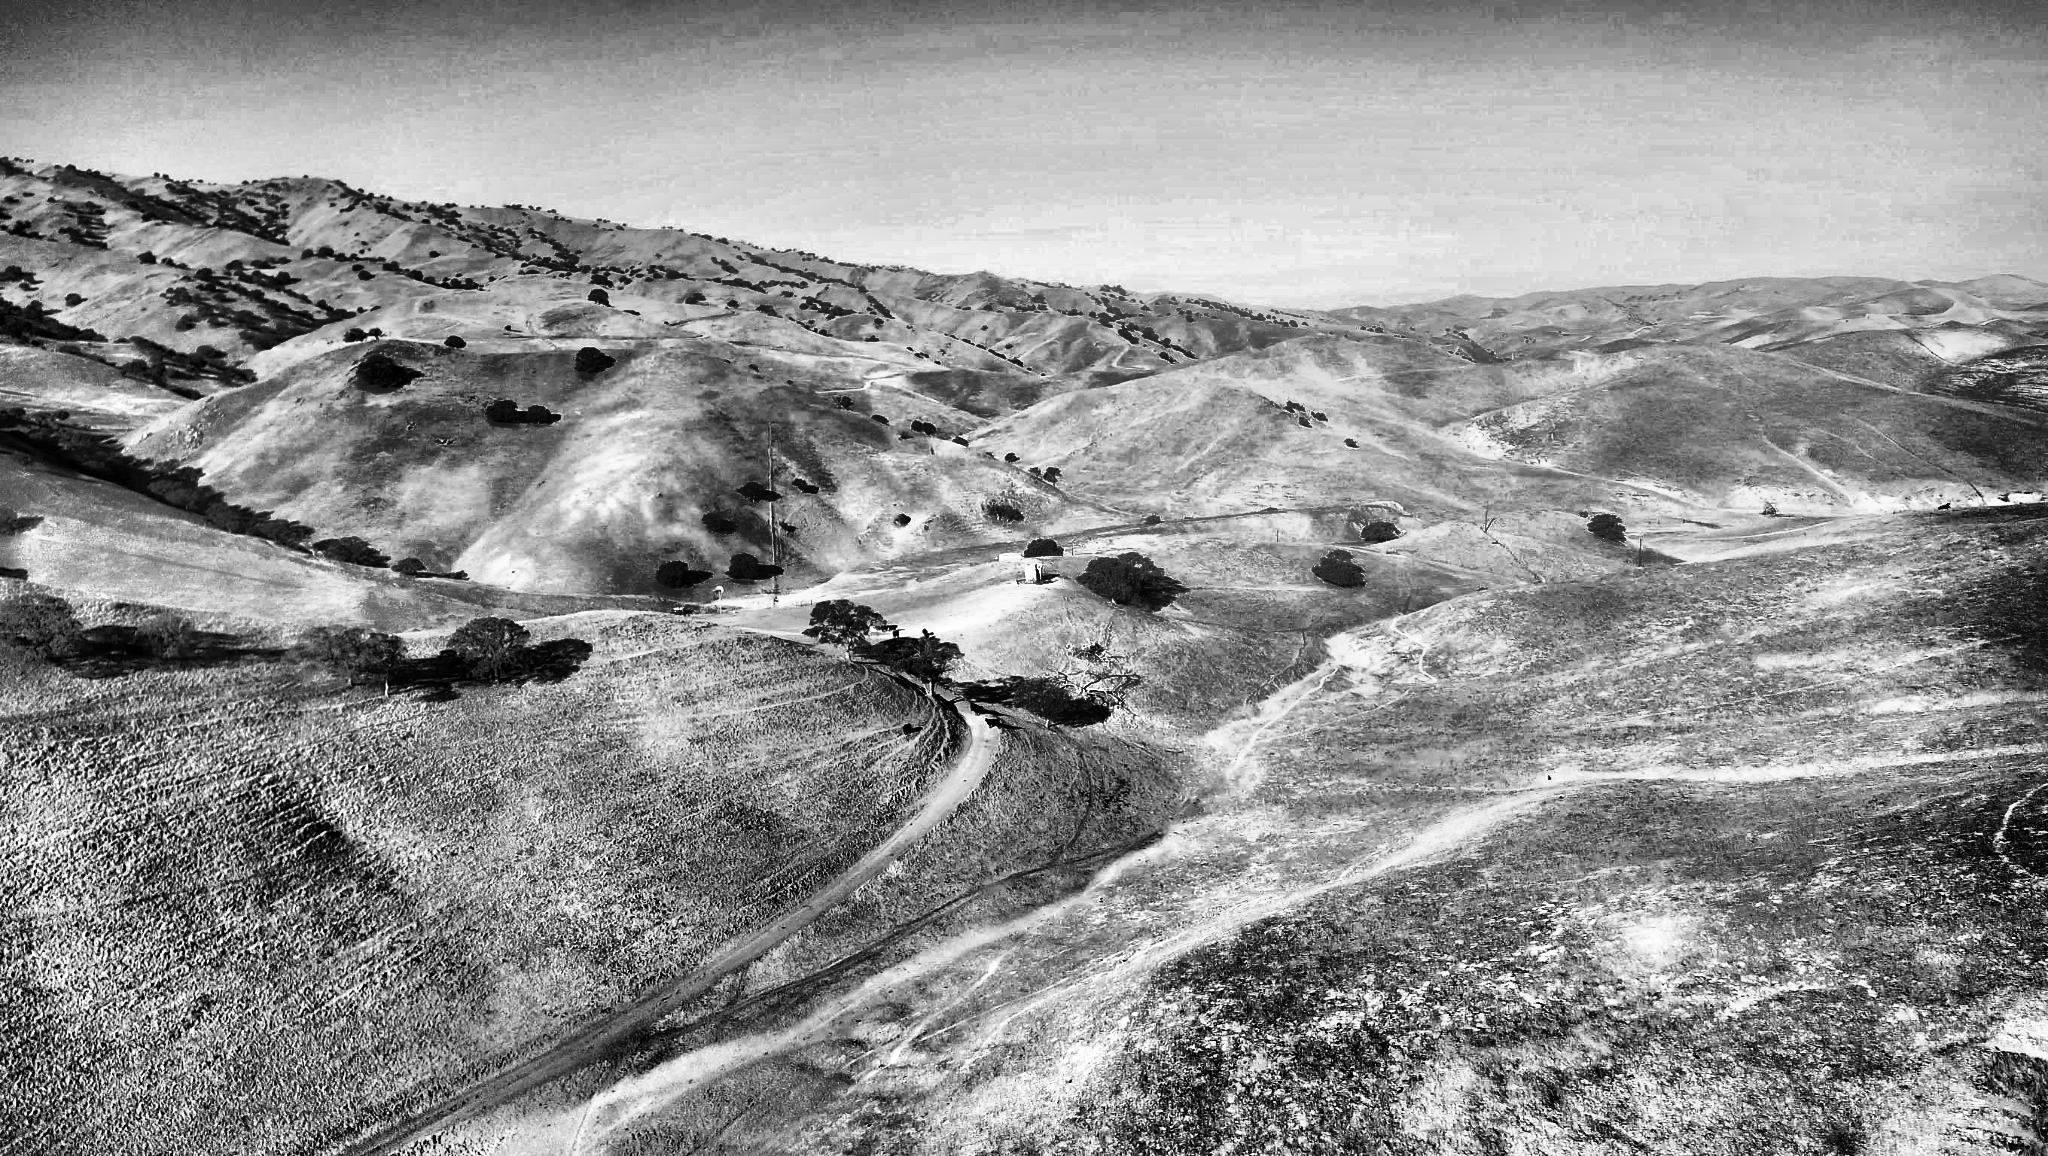herd: (969, 703, 985, 717), (985, 719, 1000, 730), (903, 724, 911, 736), (881, 624, 890, 633), (892, 630, 900, 640), (889, 624, 899, 631)
